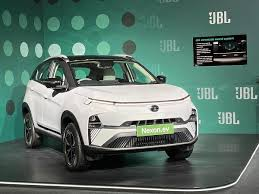Tata Nexon: (21, 55, 199, 172)
